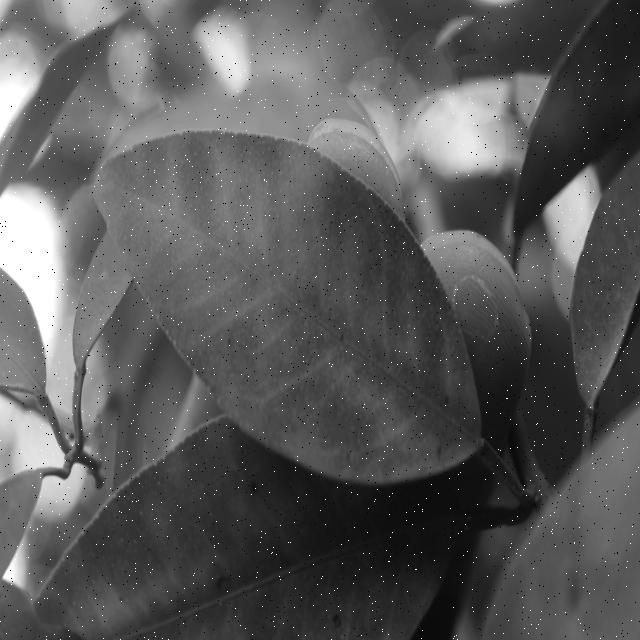blackspot: (112, 457, 388, 640), (214, 304, 460, 500)
